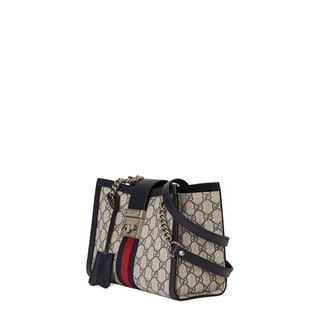Gucci: (81, 162, 246, 309), (114, 228, 146, 297), (193, 200, 220, 235)
